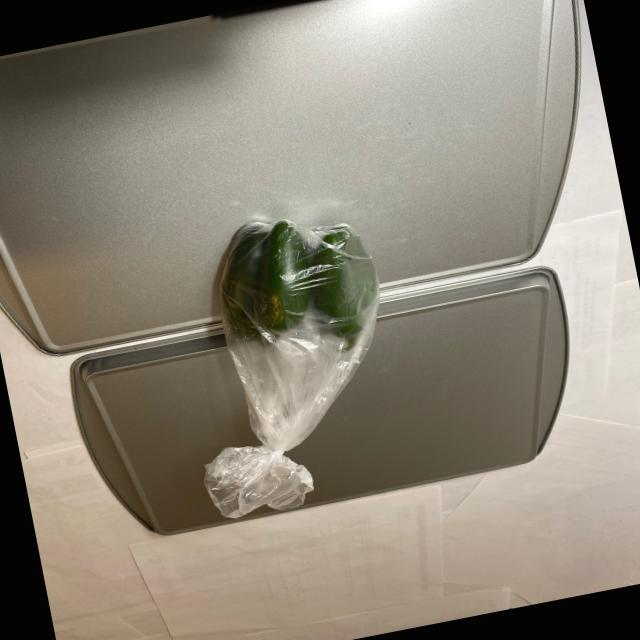chilli: (197, 194, 397, 376)
